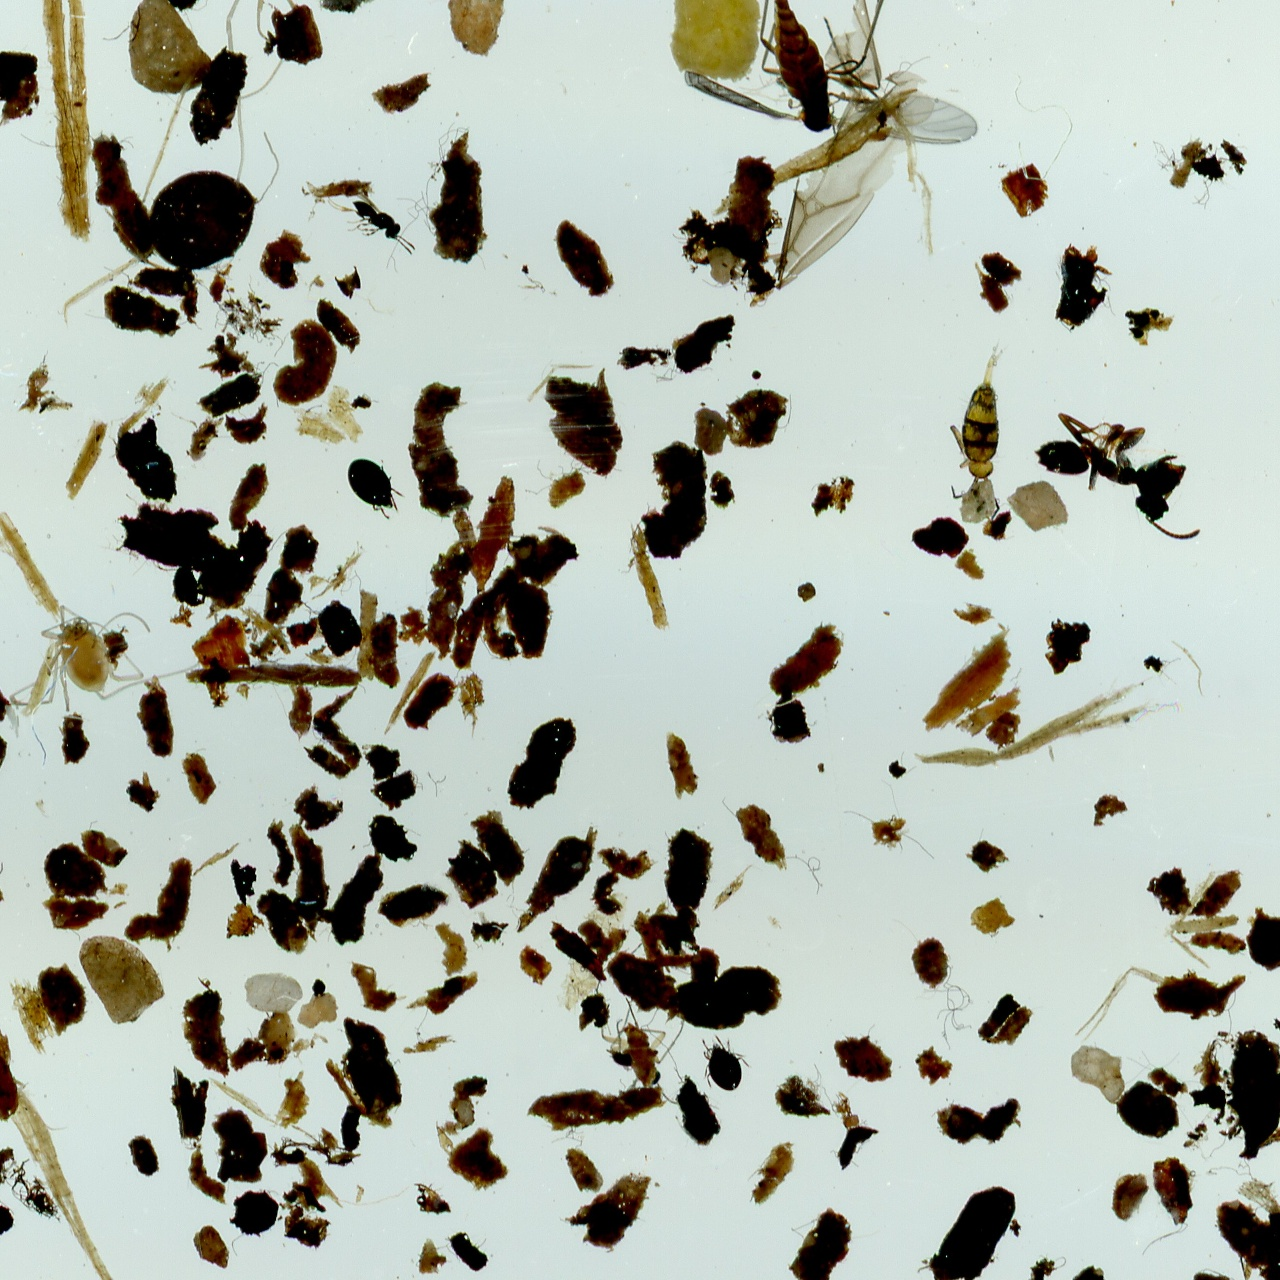arthropod: (94, 0, 619, 217), (1019, 400, 1225, 549), (755, 0, 930, 144), (6, 601, 202, 717), (946, 333, 1012, 526), (316, 173, 429, 272), (602, 999, 690, 1089), (343, 454, 407, 524), (699, 1030, 753, 1094)
